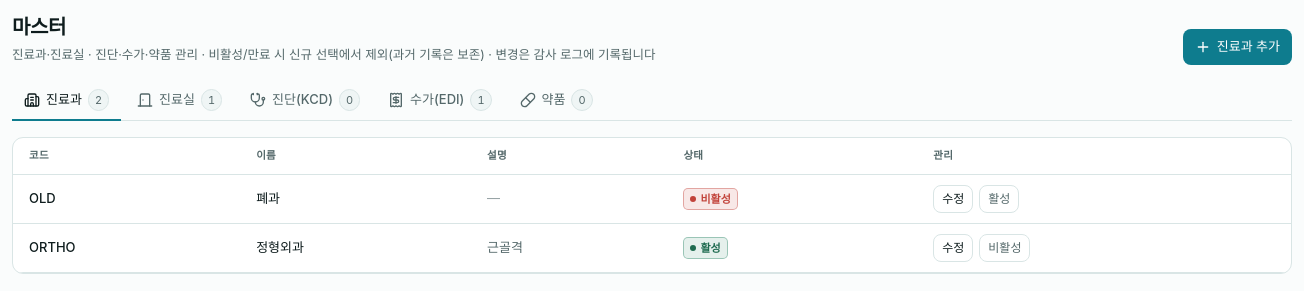
Scenario: MastersManager › 수가 탭 → 금액 천단위 포맷 표시
The image size is (1304, 291).
Click the tab "수가(EDI) 1". click: [440, 101]
box: [376,81,504,121]
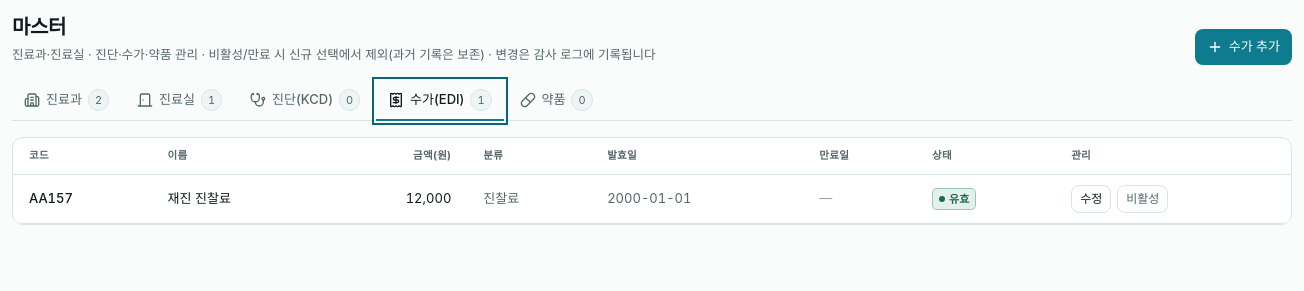
Expected: the text "12,000" is shown, [326,175,467,224]
